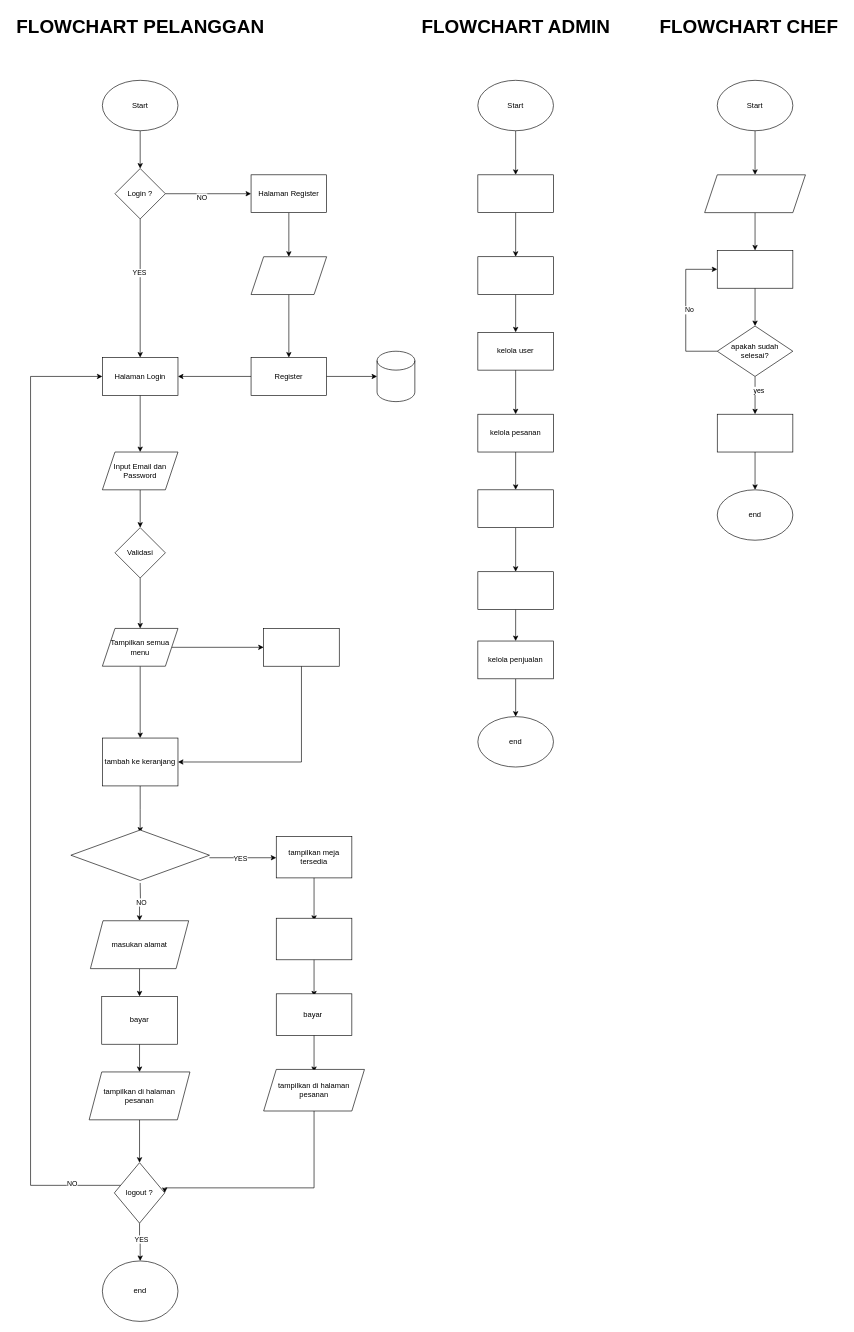
Some shapes in this 854 by 1332 pixel diagram are drawn without their labels. The shapes that lost their labels are listed below. From the top down, each one's centre as x and y in pixels, then its label:
At point (515, 193): "Login Admin".
At point (754, 193): "Menampilkan semua pesanan".
At point (288, 275): "Input Username, Email, Password".
At point (515, 275): "kelola menu".
At point (755, 269): "proses pesanan".
At point (395, 376): "DB".
At point (755, 433): "kirim data pesanan sudah siap".
At point (515, 508): "kelola meja".
At point (515, 590): "kelola transaksi".
At point (301, 647): "mencari produk".
At point (139, 854): "apakah memesan meja?".
At point (314, 939): "pilih meja".
